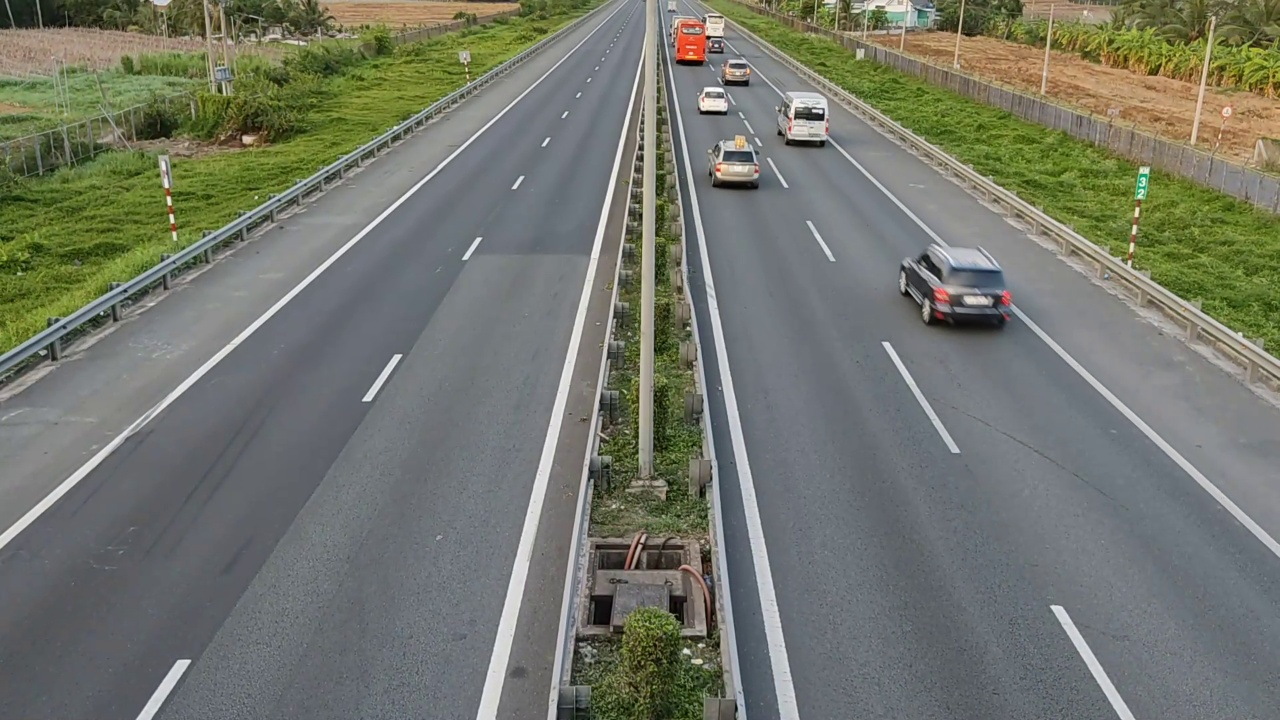car: (899, 242, 1013, 327), (770, 88, 830, 149), (706, 137, 761, 188), (697, 87, 730, 115), (721, 58, 752, 85)
